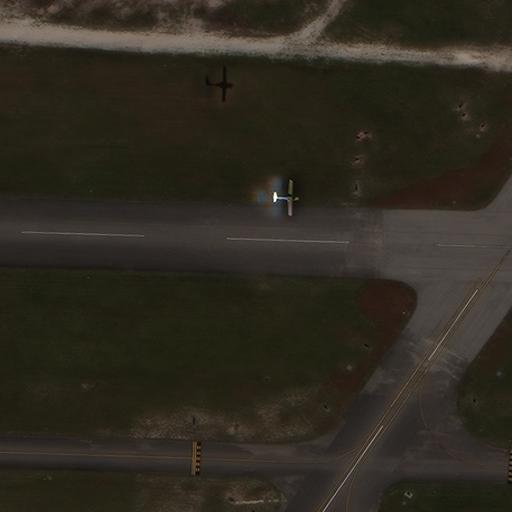Small Civil Transport: (271, 180, 299, 215)
